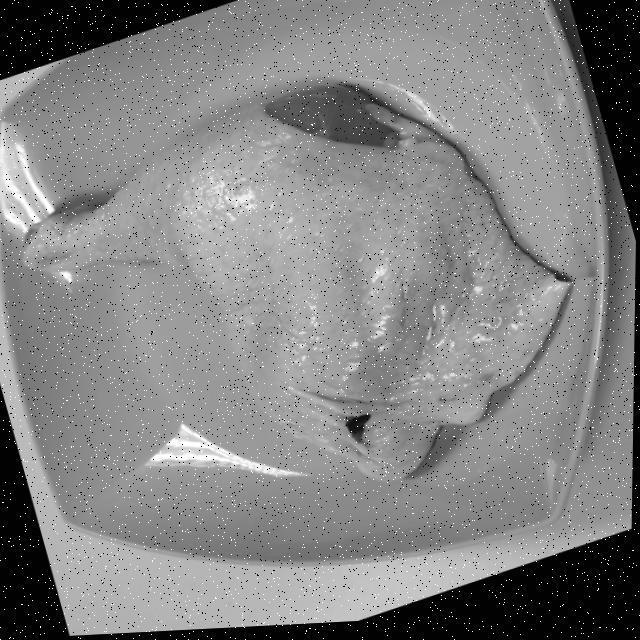quater: (26, 89, 528, 442)
